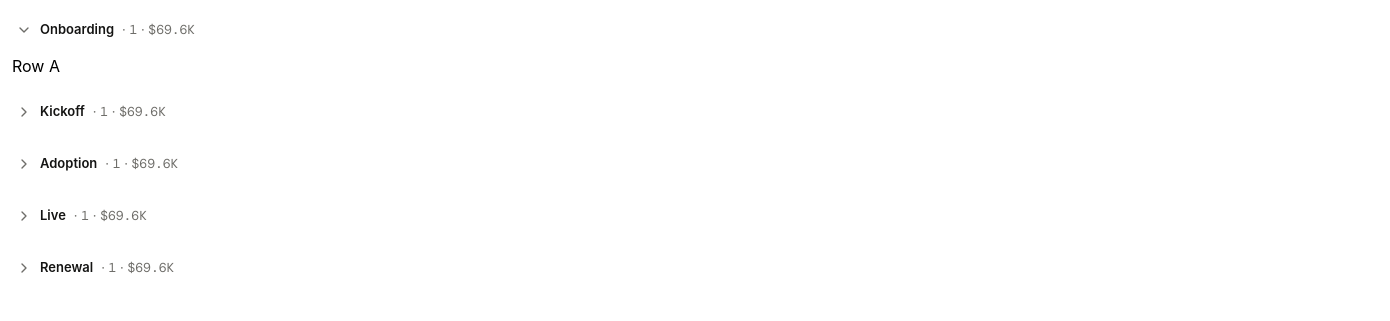
it: PortfolioSections › does not fetch a collapsed section until it is opened
Expected: the list item "Row A" is shown, [12, 56, 60, 76]
Expected: the text "Row B" is not shown
Click the button "Kickoff · 1 · $69.6K" at (62, 111), box [12, 94, 1378, 130]
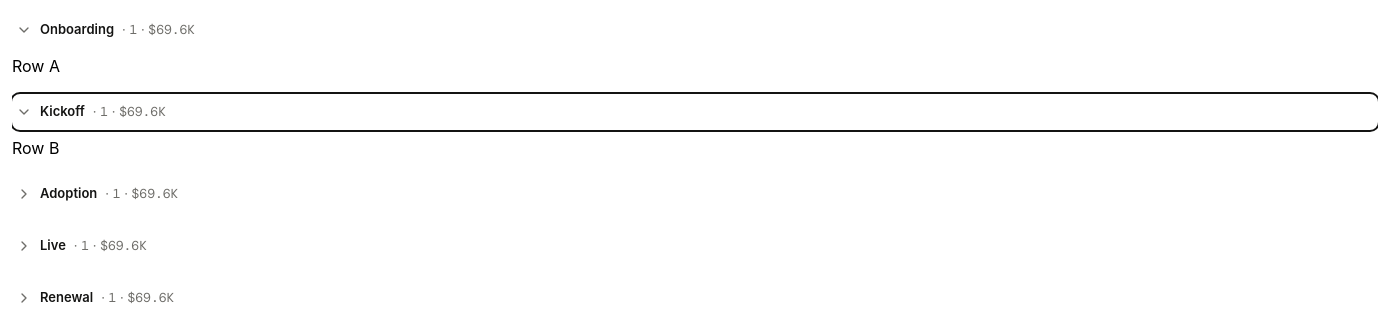
Expected: the list item "Row B" is shown, [12, 138, 59, 158]
